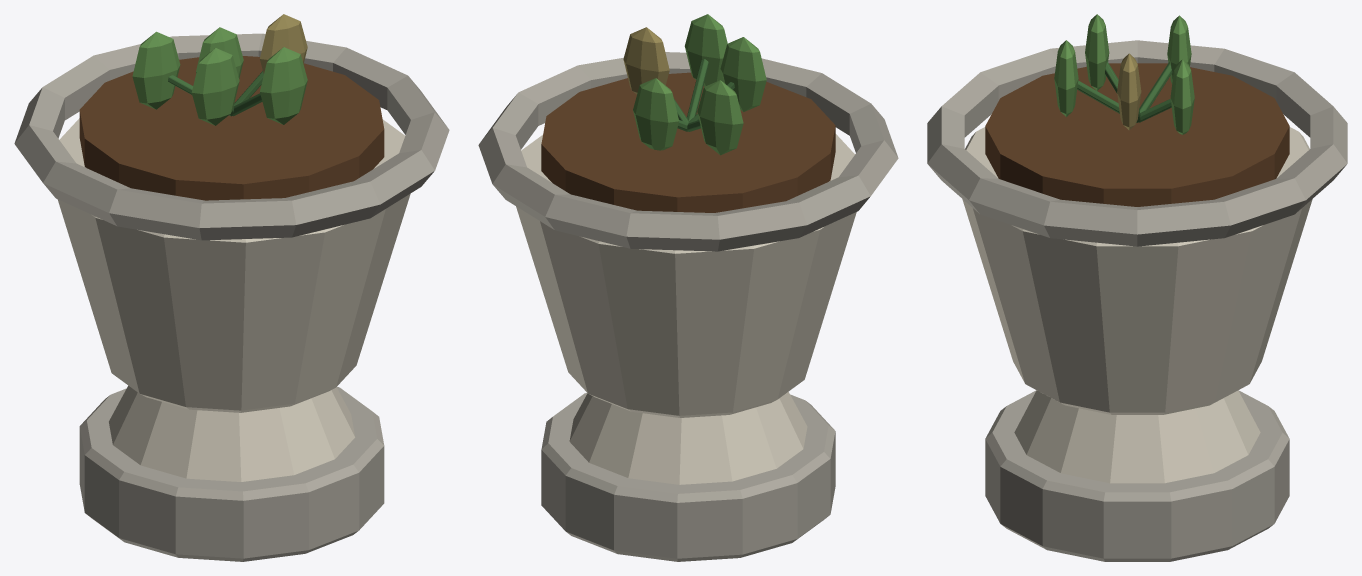
The model's file is runtime.glb.
3 renders of one model, left to right at view 1: azimuth 30°, elevation 25°; view 2: azimuth 150°, elevation 25°; view 3: azimuth 270°, elevation 25°, orthographic. The views are drawn at different scales.
Parts seen in each view (by area): view 1: eiffel-historic-urn-v01_nocol; view 2: eiffel-historic-urn-v01_nocol; view 3: eiffel-historic-urn-v01_nocol.
Part boxes in pixels (left/top/right/bottom): eiffel-historic-urn-v01_nocol: left=14, top=14, right=449, bottom=561; eiffel-historic-urn-v01_nocol: left=478, top=14, right=898, bottom=561; eiffel-historic-urn-v01_nocol: left=927, top=14, right=1347, bottom=561.
Bounding box in the file's own units: 1.12 × 1.35 × 1.09.
